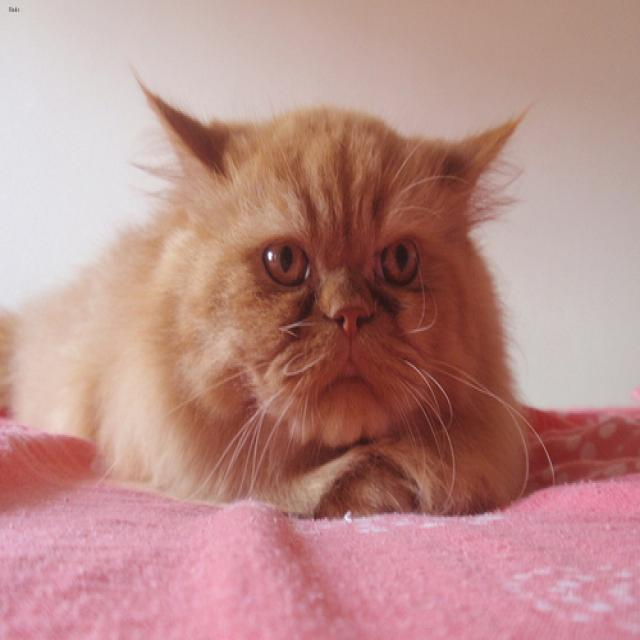cat: (140, 80, 514, 439)
